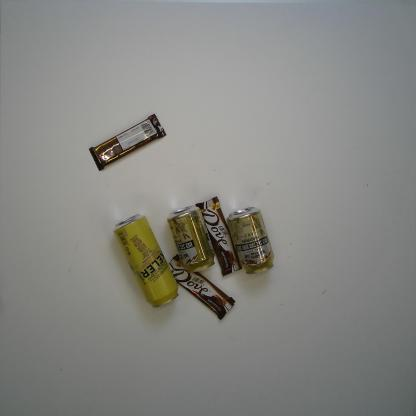Alcohol: (113, 212, 179, 309), (226, 207, 275, 276), (167, 205, 215, 273)
Chocolate: (166, 254, 236, 321), (88, 113, 167, 172), (194, 196, 242, 277)
